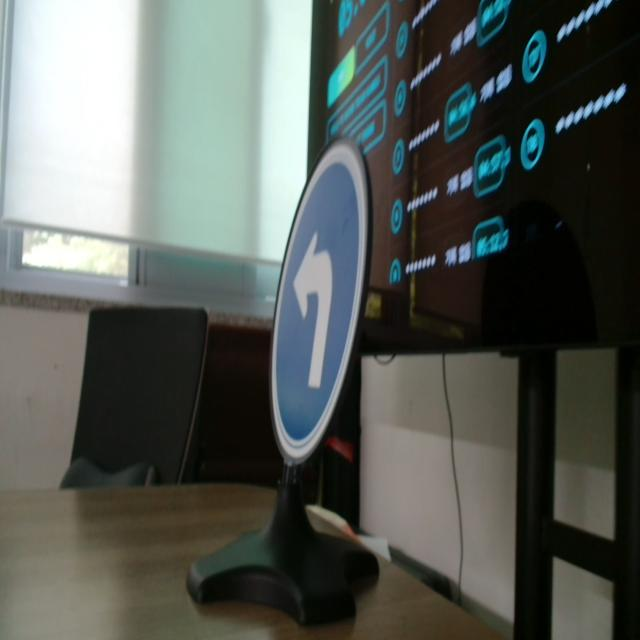left_direction: (262, 130, 387, 483)
